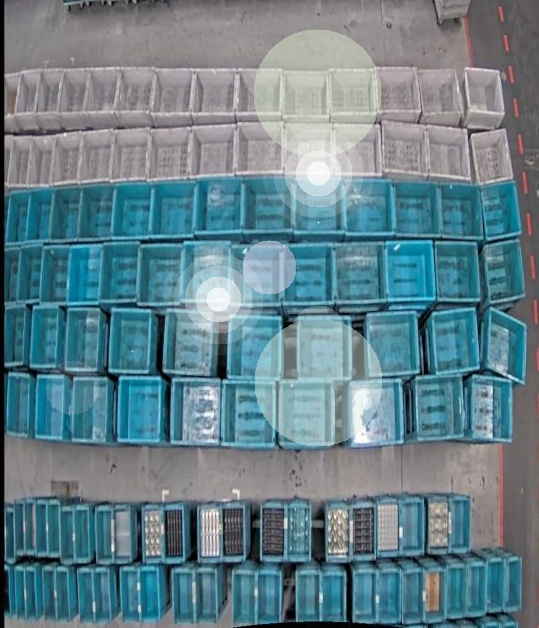Box: (364, 310, 422, 379), (226, 312, 283, 379), (222, 379, 276, 448), (280, 381, 336, 447), (349, 380, 405, 446), (164, 308, 216, 379), (413, 370, 464, 442), (298, 315, 352, 382), (429, 308, 481, 376), (485, 306, 528, 388), (334, 241, 387, 306), (466, 374, 515, 444), (434, 237, 483, 307), (242, 174, 294, 239), (228, 245, 283, 306), (384, 240, 437, 303), (282, 245, 336, 306), (293, 175, 345, 236), (172, 379, 220, 445), (436, 181, 486, 243), (182, 240, 229, 305), (424, 126, 473, 188), (138, 242, 185, 306), (344, 177, 394, 237), (109, 308, 154, 374), (482, 239, 526, 306), (382, 120, 428, 184), (195, 178, 244, 238), (118, 376, 161, 444), (392, 180, 440, 240), (479, 181, 524, 244), (332, 124, 382, 180), (373, 66, 422, 123), (419, 65, 465, 125), (235, 120, 283, 177), (150, 178, 195, 238), (99, 242, 141, 306), (329, 66, 376, 123), (470, 128, 515, 187), (282, 66, 330, 121), (285, 120, 332, 176), (190, 124, 234, 181), (193, 66, 237, 123), (151, 66, 194, 124), (72, 379, 110, 444), (464, 68, 504, 129), (236, 64, 282, 117), (115, 65, 154, 127), (66, 307, 102, 371), (149, 125, 190, 181), (111, 130, 152, 183), (76, 130, 116, 183), (68, 245, 102, 307), (30, 305, 62, 370), (113, 183, 151, 237), (78, 184, 114, 239), (36, 375, 66, 439), (86, 67, 118, 127), (58, 69, 89, 130), (6, 372, 32, 440), (50, 132, 82, 187), (50, 185, 81, 241), (400, 495, 425, 559), (425, 490, 450, 554), (34, 68, 60, 129), (40, 246, 68, 302), (25, 185, 53, 241), (326, 500, 351, 562), (15, 70, 40, 130), (262, 500, 286, 562), (352, 569, 378, 626), (16, 246, 42, 302), (197, 505, 222, 563), (221, 501, 246, 559), (288, 502, 312, 562), (8, 134, 34, 189), (295, 570, 322, 622), (27, 135, 55, 185), (4, 303, 26, 366), (162, 502, 185, 562), (377, 497, 400, 557), (448, 496, 471, 556), (232, 571, 256, 628), (193, 569, 218, 622), (141, 504, 163, 564), (378, 569, 401, 626), (95, 504, 116, 566), (354, 502, 376, 561), (257, 569, 281, 623), (172, 570, 195, 624), (402, 570, 424, 625), (322, 572, 346, 622), (138, 568, 160, 622), (6, 191, 28, 245), (114, 504, 134, 563), (424, 569, 446, 622), (119, 567, 140, 622), (77, 569, 96, 625), (446, 565, 466, 618), (93, 568, 111, 624), (506, 556, 524, 612), (60, 504, 76, 566), (468, 563, 486, 616), (486, 558, 504, 611), (54, 566, 71, 622), (42, 567, 58, 625), (47, 498, 62, 558), (5, 73, 20, 133), (4, 248, 20, 304), (76, 506, 91, 564), (4, 503, 18, 563), (24, 567, 39, 622), (14, 566, 28, 621), (26, 498, 38, 558), (37, 498, 48, 558), (16, 500, 28, 552), (4, 564, 13, 618)
